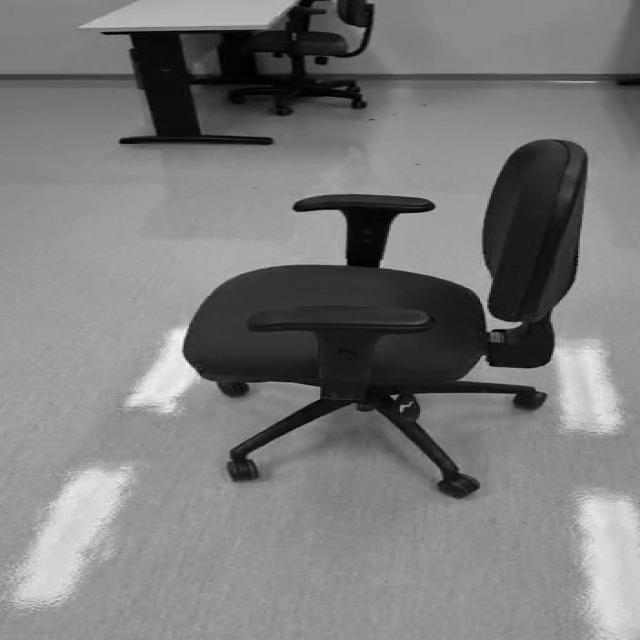cadeira-azul: (184, 138, 589, 499)
